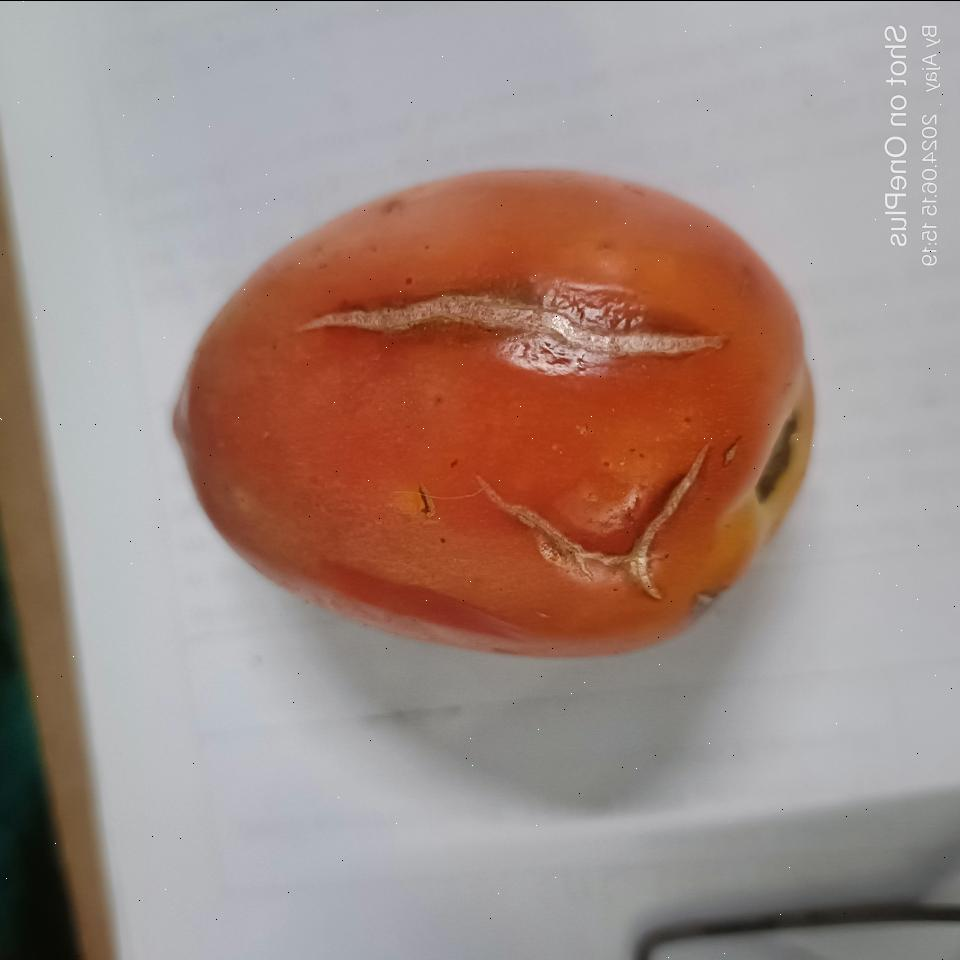Cracking: (282, 262, 731, 394), (470, 444, 718, 618)
